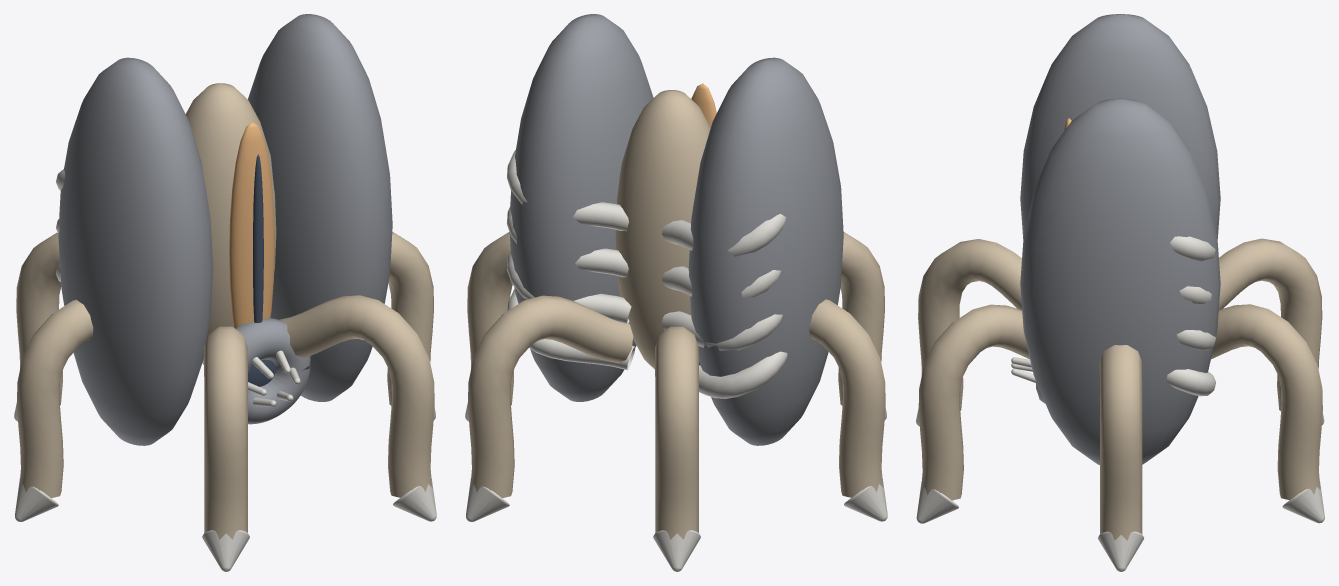
File: bio_window_sac_06_near.glb
3 renders of one model, left to right at view 1: azimuth 30°, elevation 25°; view 2: azimuth 150°, elevation 25°; view 3: azimuth 270°, elevation 25°, orthographic. The views are drawn at different scales.
Parts seen in each view (by area): view 1: Separated curved shell, Crooked support.004, Crooked support.003, Crooked support.002, Internal receptor sac, Single vertical photoreceptor, Raised oral lip, Crooked support.005, Crooked support.001, Long internal pupil, Contact spur.003, Contact spur.002 (+2 smaller); view 2: Separated curved shell, Internal receptor sac, Crooked support, Shell window buttress, Crooked support.001, Crooked support.002, Crooked support.003, Crooked support.005, Contact spur.001, Contact spur, Contact spur.002, Single vertical photoreceptor; view 3: Separated curved shell, Crooked support, Crooked support.004, Crooked support.005, Crooked support.003, Crooked support.001, Shell window buttress, Contact spur.005, Contact spur.004, Contact spur.
Part boxes in pixels (x1,y1,x2,y2): Separated curved shell: (58, 14, 392, 445); Crooked support.004: (279, 295, 434, 497); Crooked support.003: (204, 326, 247, 539); Crooked support.002: (17, 299, 93, 498); Internal receptor sac: (185, 83, 276, 362); Single vertical photoreceptor: (229, 122, 274, 328); Raised oral lip: (236, 318, 310, 424); Crooked support.005: (387, 232, 433, 405); Crooked support.001: (16, 232, 62, 405); Long internal pupil: (253, 154, 263, 322); Contact spur.003: (202, 530, 249, 571); Contact spur.002: (15, 479, 58, 521); Separated curved shell: (509, 14, 843, 445); Internal receptor sac: (615, 90, 710, 369); Crooked support: (468, 295, 633, 498); Shell window buttress: (506, 150, 787, 398); Crooked support.001: (655, 326, 698, 539); Crooked support.002: (809, 299, 885, 497); Crooked support.003: (838, 232, 884, 405); Crooked support.005: (467, 232, 513, 405); Contact spur.001: (653, 530, 700, 571); Contact spur: (466, 479, 509, 521); Contact spur.002: (844, 479, 887, 521); Single vertical photoreceptor: (691, 83, 716, 127); Separated curved shell: (1020, 14, 1220, 464); Crooked support: (1211, 304, 1322, 499); Crooked support.004: (918, 304, 1029, 500); Crooked support.005: (1099, 345, 1142, 540); Crooked support.003: (918, 239, 1021, 410); Crooked support.001: (1219, 238, 1322, 410); Shell window buttress: (1166, 236, 1215, 396); Contact spur.005: (1098, 531, 1143, 571); Contact spur.004: (916, 482, 958, 523); Contact spur: (1282, 481, 1324, 523).
Bounding box in the file's own units: 2.11 × 2.07 × 1.84.
